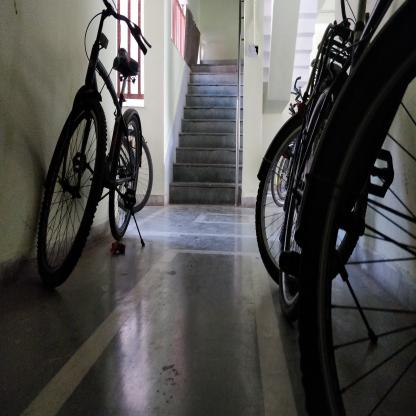stairs: (193, 64, 234, 209)
